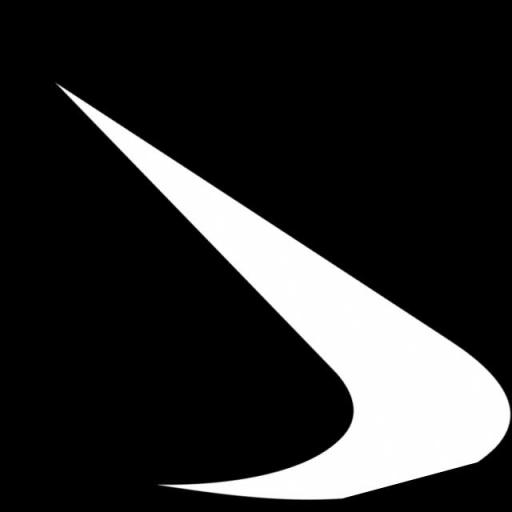Nike: (49, 0, 512, 512)
